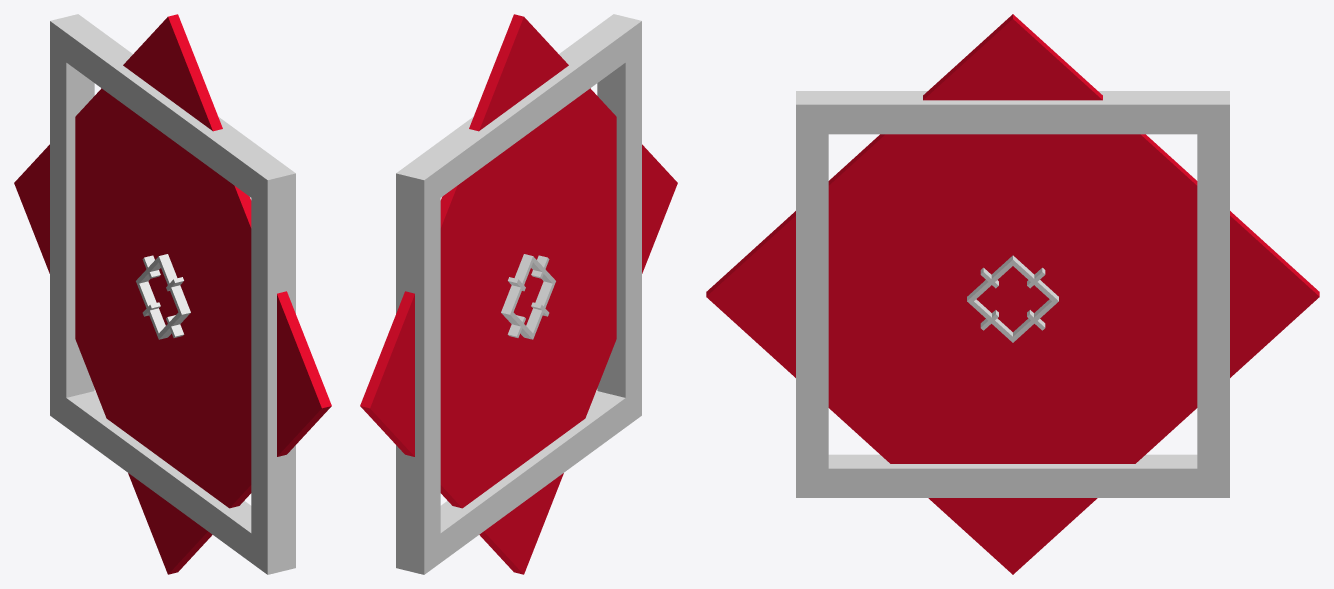
Rendered from shield2.fbx.
The picture shows the model from 3 angles, left to right: view 1: azimuth 30°, elevation 25°; view 2: azimuth 150°, elevation 25°; view 3: azimuth 270°, elevation 25°; orthographic projection.
Parts seen in each view (by area): view 1: Main Shield, Cadre; view 2: Main Shield, Cadre; view 3: Main Shield, Cadre.
Part boxes in pixels (box(x1,y1,x2,y2)): Main Shield: box(14, 14, 331, 574); Cadre: box(50, 14, 295, 574); Main Shield: box(360, 14, 677, 574); Cadre: box(396, 14, 641, 574); Main Shield: box(706, 14, 1319, 574); Cadre: box(796, 91, 1229, 497).
Size of the model in its own units: 15 by 283 by 283.
